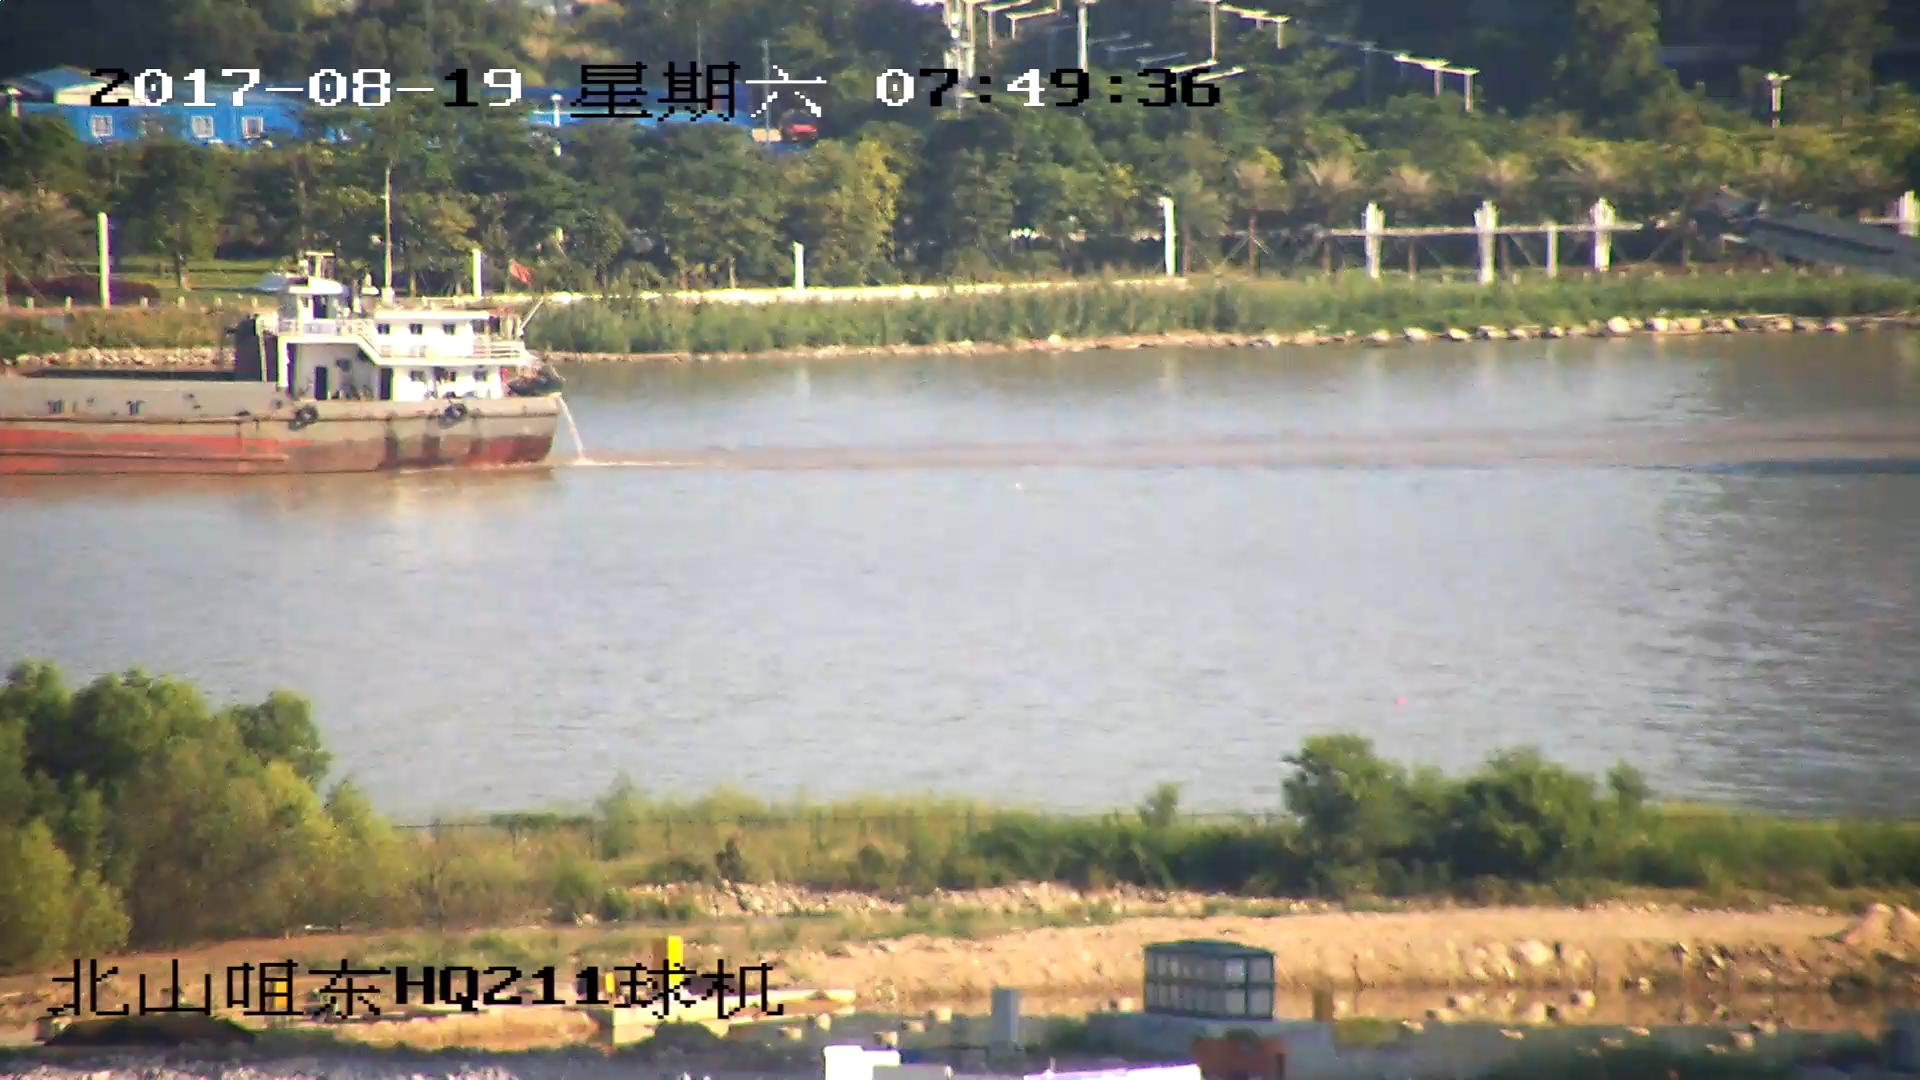bulk cargo carrier: (1, 266, 565, 472)
